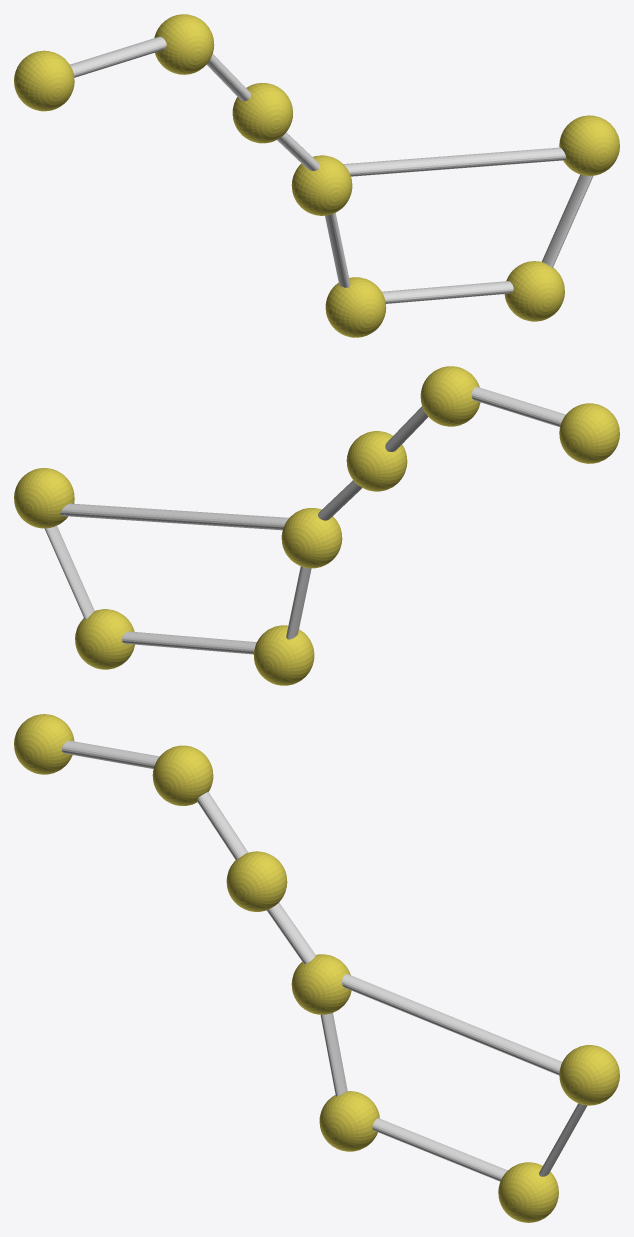
Rendered from big-dipper.glb.
3 renders of one model, top to bottom at view 1: azimuth 30°, elevation 25°; view 2: azimuth 150°, elevation 25°; view 3: azimuth 330°, elevation 25°, orthographic.
Parts seen in each view (by area): view 1: Mesh_Mesh_head_geo.001_lambert2SG.001; view 2: Mesh_Mesh_head_geo.001_lambert2SG.001; view 3: Mesh_Mesh_head_geo.001_lambert2SG.001.
Part boxes in pixels (x1,y1,x2,y2): Mesh_Mesh_head_geo.001_lambert2SG.001: [14, 14, 619, 337]; Mesh_Mesh_head_geo.001_lambert2SG.001: [14, 366, 619, 685]; Mesh_Mesh_head_geo.001_lambert2SG.001: [14, 714, 619, 1222].
Size of the model in its own units: 114 by 69.94 by 11.
